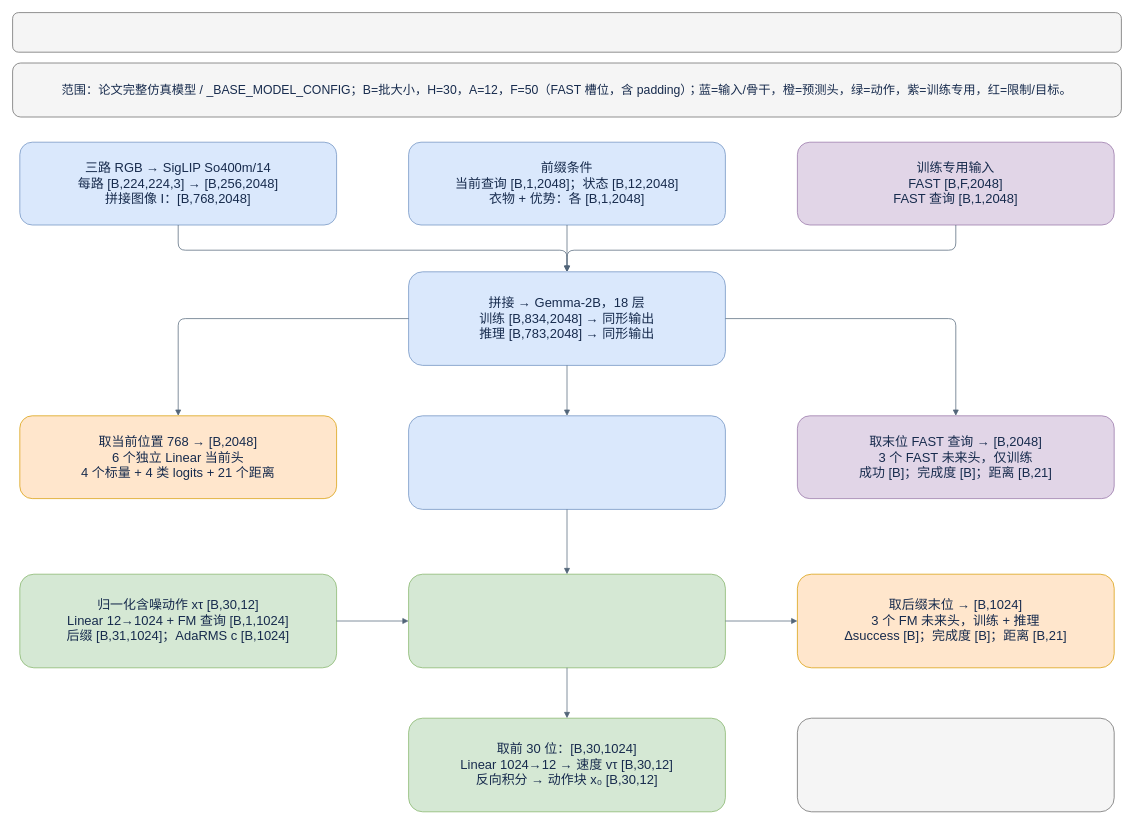
The diagram is 1134 pixels wide and 824 high, and some of its shapes have lost their labels. Each missing label, with the centre of its shape:
Gemma-300M 动作专家，18 层 后缀 + 清理后的前缀 K/V + AdaRMS 输出 [B,31,1024]: the point at 566,620
每层 K/V：[18,B,834,1,256] 删除 FAST + 查询（51 个位置） → [18,B,783,1,256]；KVTransform 同形: the point at 566,462
注意：预测头不输出图像。 当前头描述“现在”；未来头评估 “采取这一动作块会怎样”。 FAST token 分类头另计，不属这 12 个头。: the point at 955,764
第 5 章：一个策略骨干，三个查询位置，十二个辅助预测头: the point at 566,32
